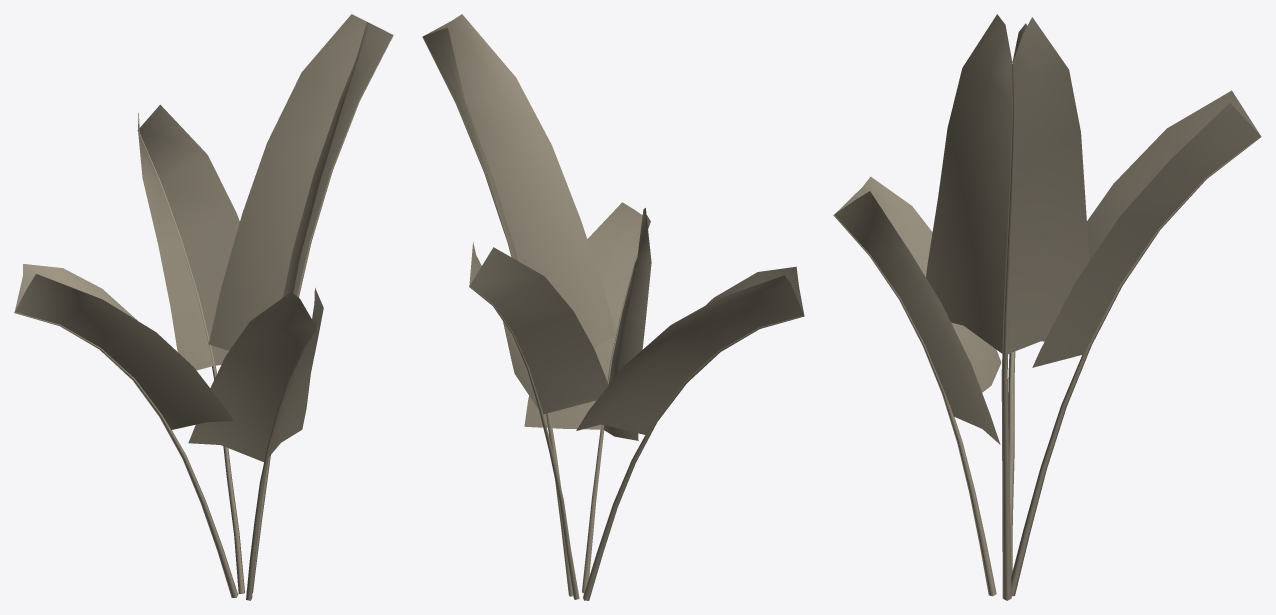
Rendered from SM_IndoorPlant_Palm_01.fbx.
The picture shows the model from 3 angles, left to right: view 1: azimuth 30°, elevation 25°; view 2: azimuth 150°, elevation 25°; view 3: azimuth 270°, elevation 25°; orthographic projection. The views are drawn at different scales.
Parts seen in each view (by area): view 1: S_IndoorPlant_Palm_01; view 2: S_IndoorPlant_Palm_01; view 3: S_IndoorPlant_Palm_01.
Part boxes in pixels (x1,y1,x2,y2): S_IndoorPlant_Palm_01: [14, 14, 393, 600]; S_IndoorPlant_Palm_01: [422, 14, 804, 600]; S_IndoorPlant_Palm_01: [833, 14, 1261, 600].
Size of the model in its own units: 110 by 152 by 90.67.
